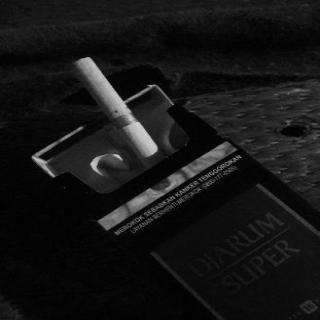objects: (98, 137, 320, 320), (72, 57, 165, 169)
